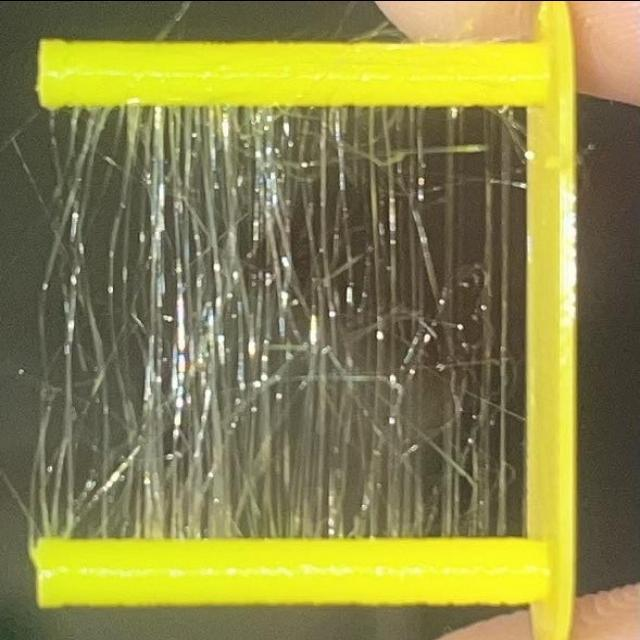stringing: (42, 91, 533, 541)
